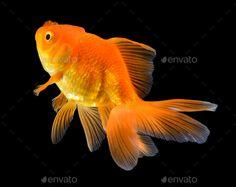goldfish: (25, 13, 205, 162)
